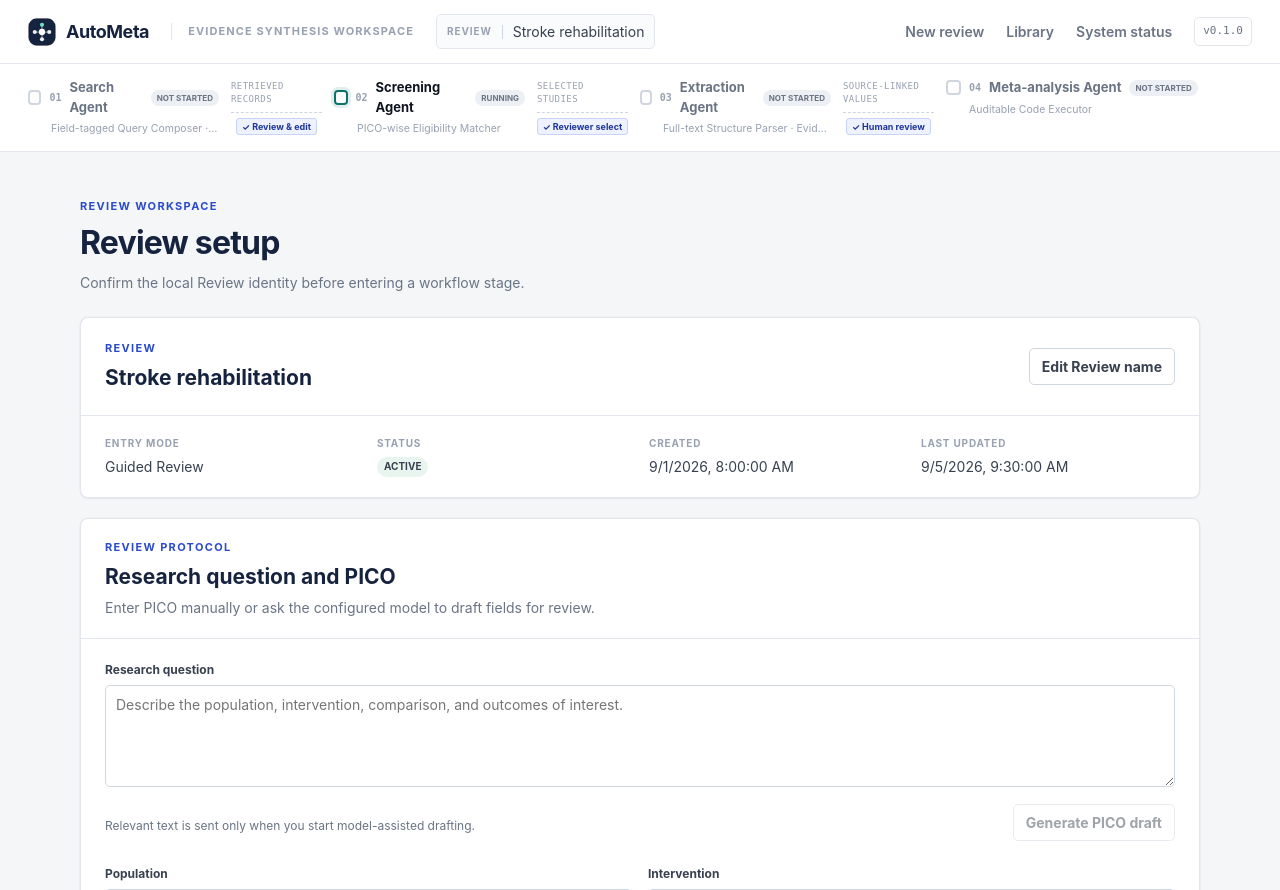
ReviewWorkspace › shows persisted metadata and renames the Review from setup
This screenshot has width=1280, height=890.
expect the heading "Review setup" is shown: met, box 80,223 -> 280,262
expect the text "Guided Review" is shown: met, box 105,456 -> 204,477
Click the button "Edit Review name": (1102, 367) 1029,348 -> 1175,385
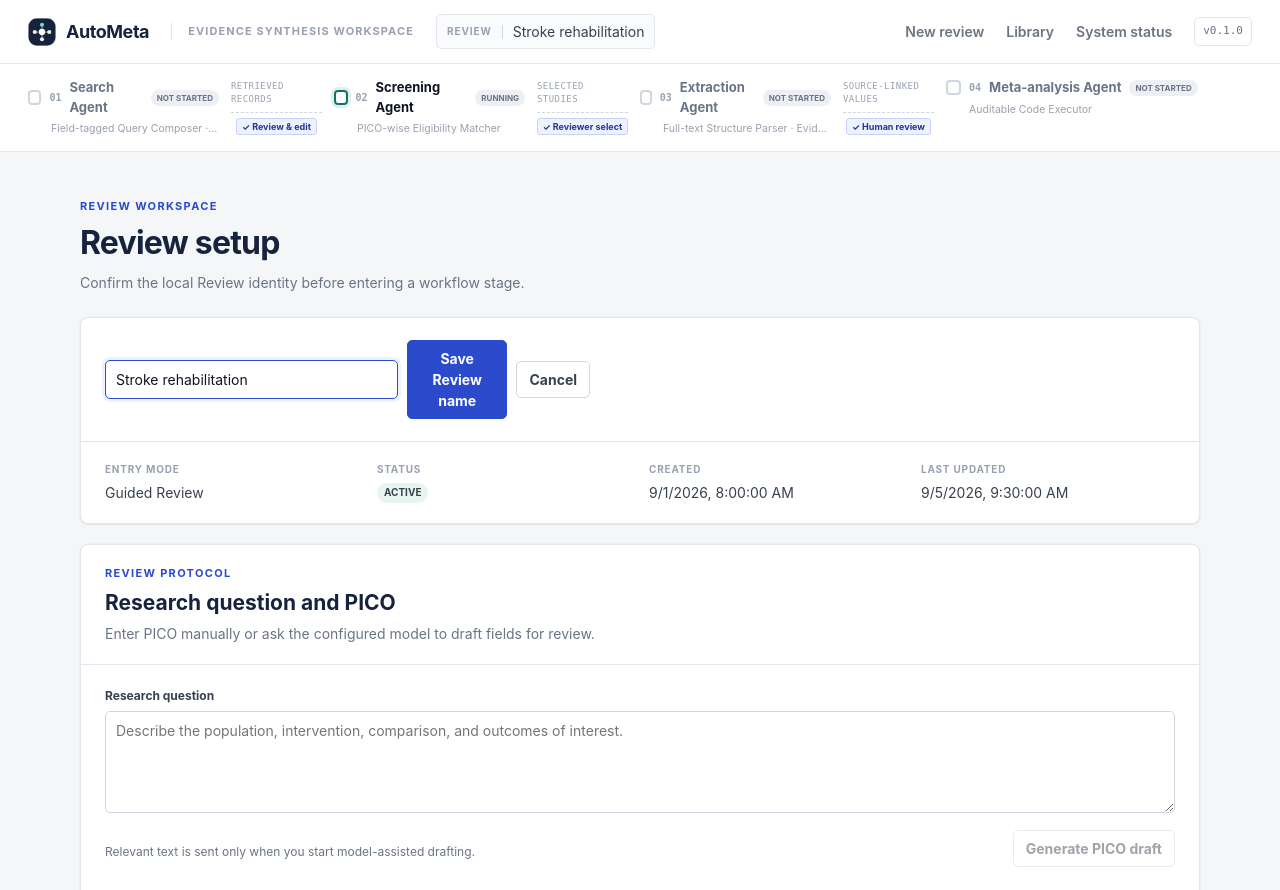
Replace the text in the field named "Review name" with "Updated title": (251, 380) 105,360 -> 398,399
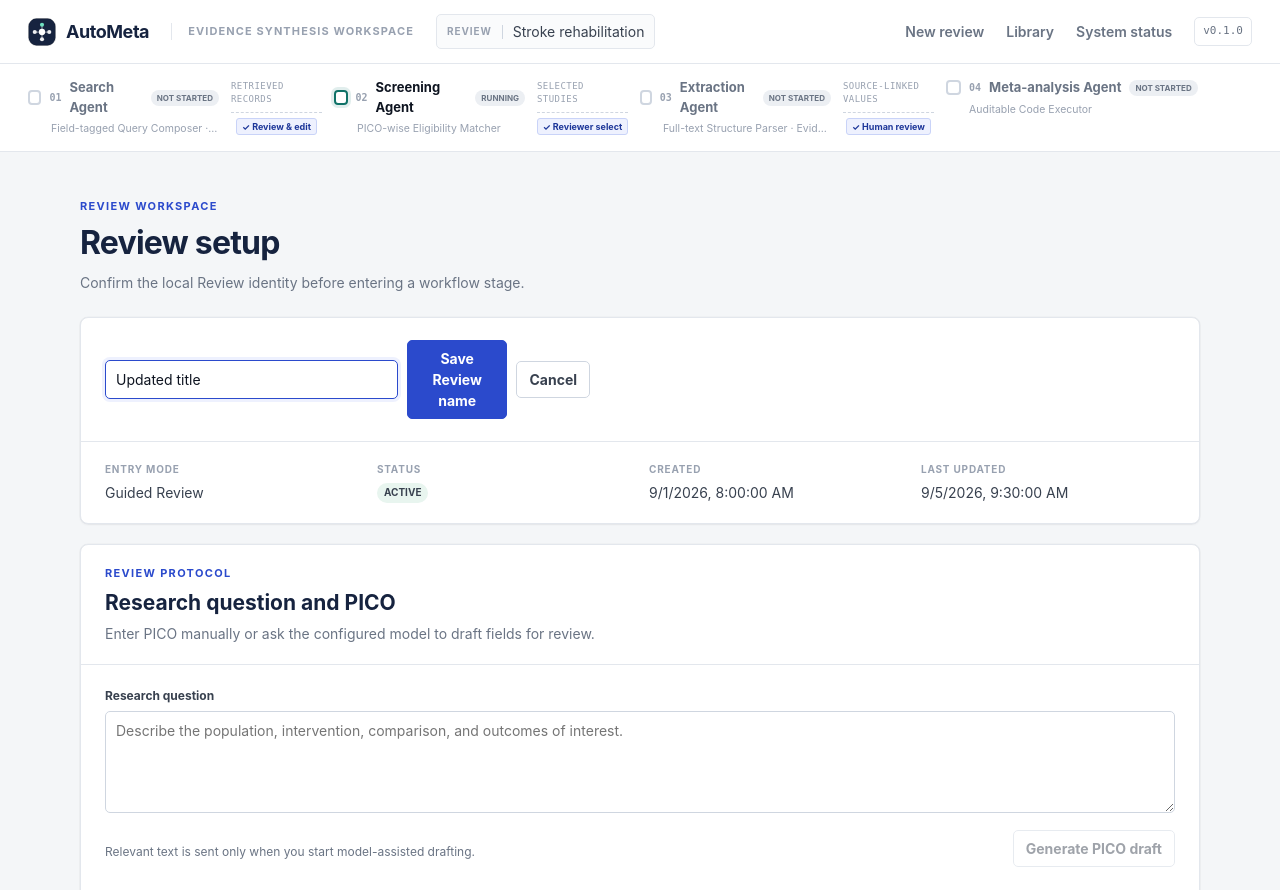
Click the button "Save Review name": (457, 380) 407,340 -> 508,419
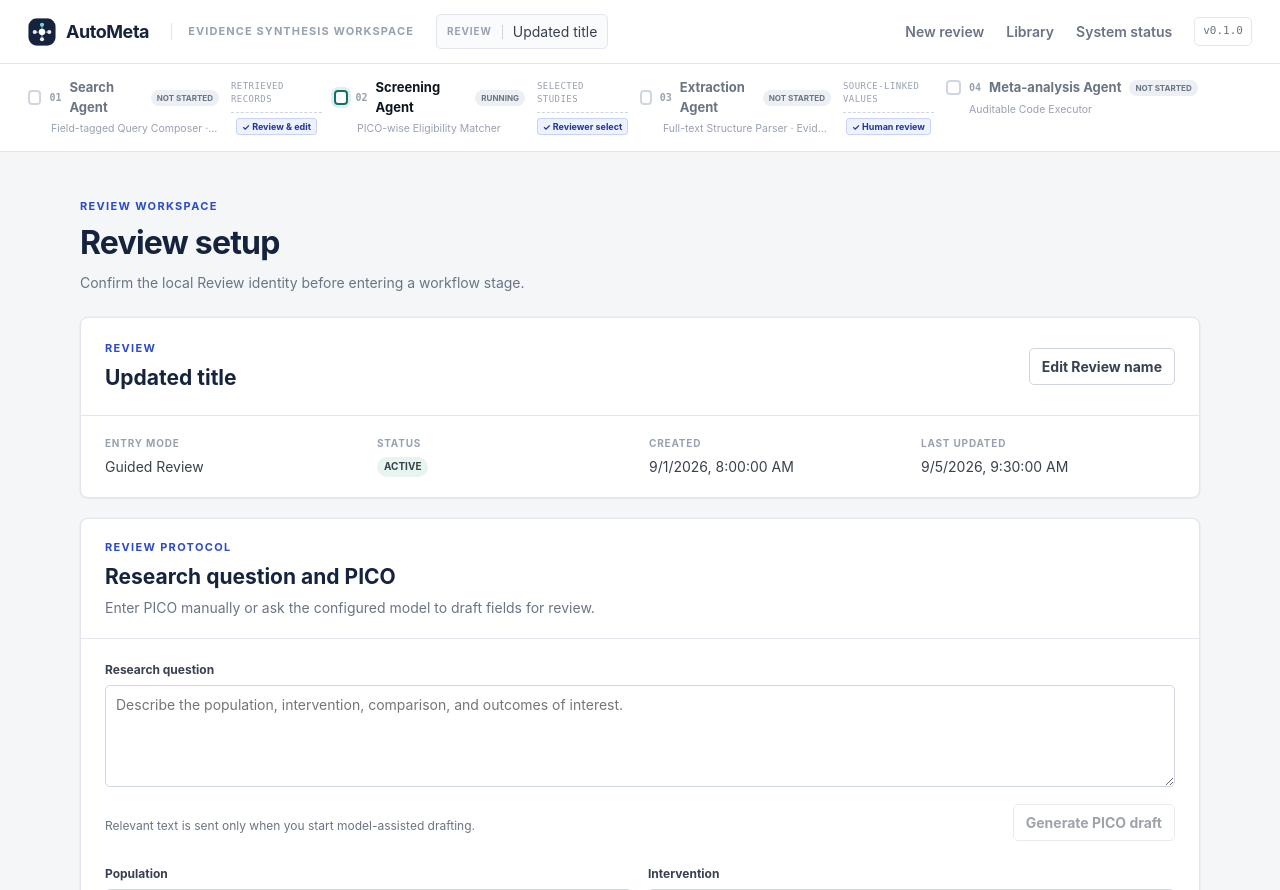
expect the text "Updated title" is shown 2 times: met, box 436,14 -> 608,49; 105,362 -> 237,393
expect the heading "Updated title" is shown: met, box 105,362 -> 237,393
